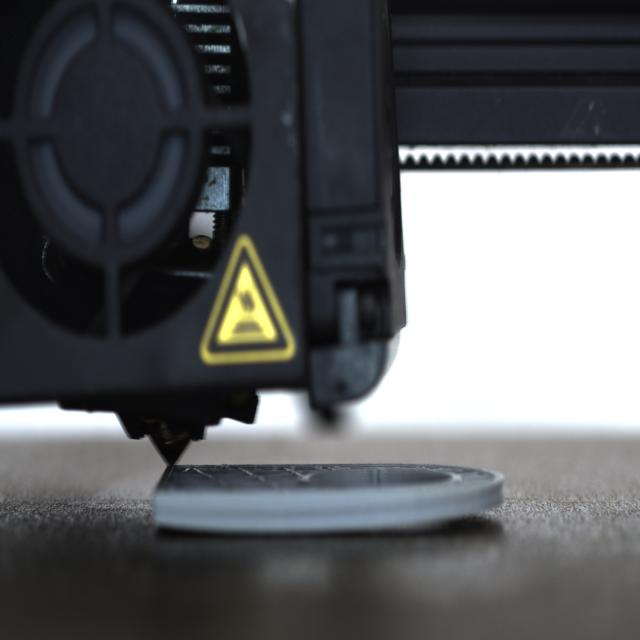Warping: (417, 488, 511, 536)
